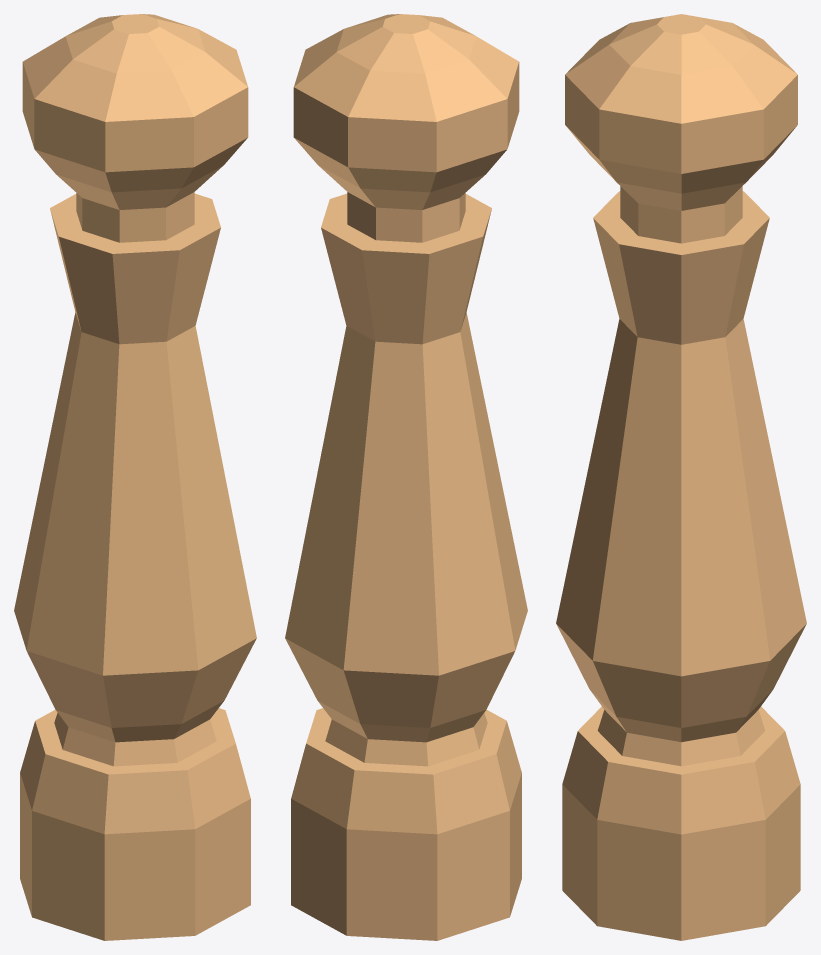
The model's file is pepperMill.fbx.
The picture shows the model from 3 angles, left to right: view 1: azimuth 30°, elevation 25°; view 2: azimuth 150°, elevation 25°; view 3: azimuth 270°, elevation 25°; orthographic projection.
Visible parts, largest first — view 1: pepperMill; view 2: pepperMill; view 3: pepperMill.
Part boxes in pixels (x1,y1,x2,y2): pepperMill: [14, 14, 256, 940]; pepperMill: [285, 14, 527, 940]; pepperMill: [556, 14, 806, 940].
Size of the model in its own units: 1.41 by 5.37 by 1.41.
